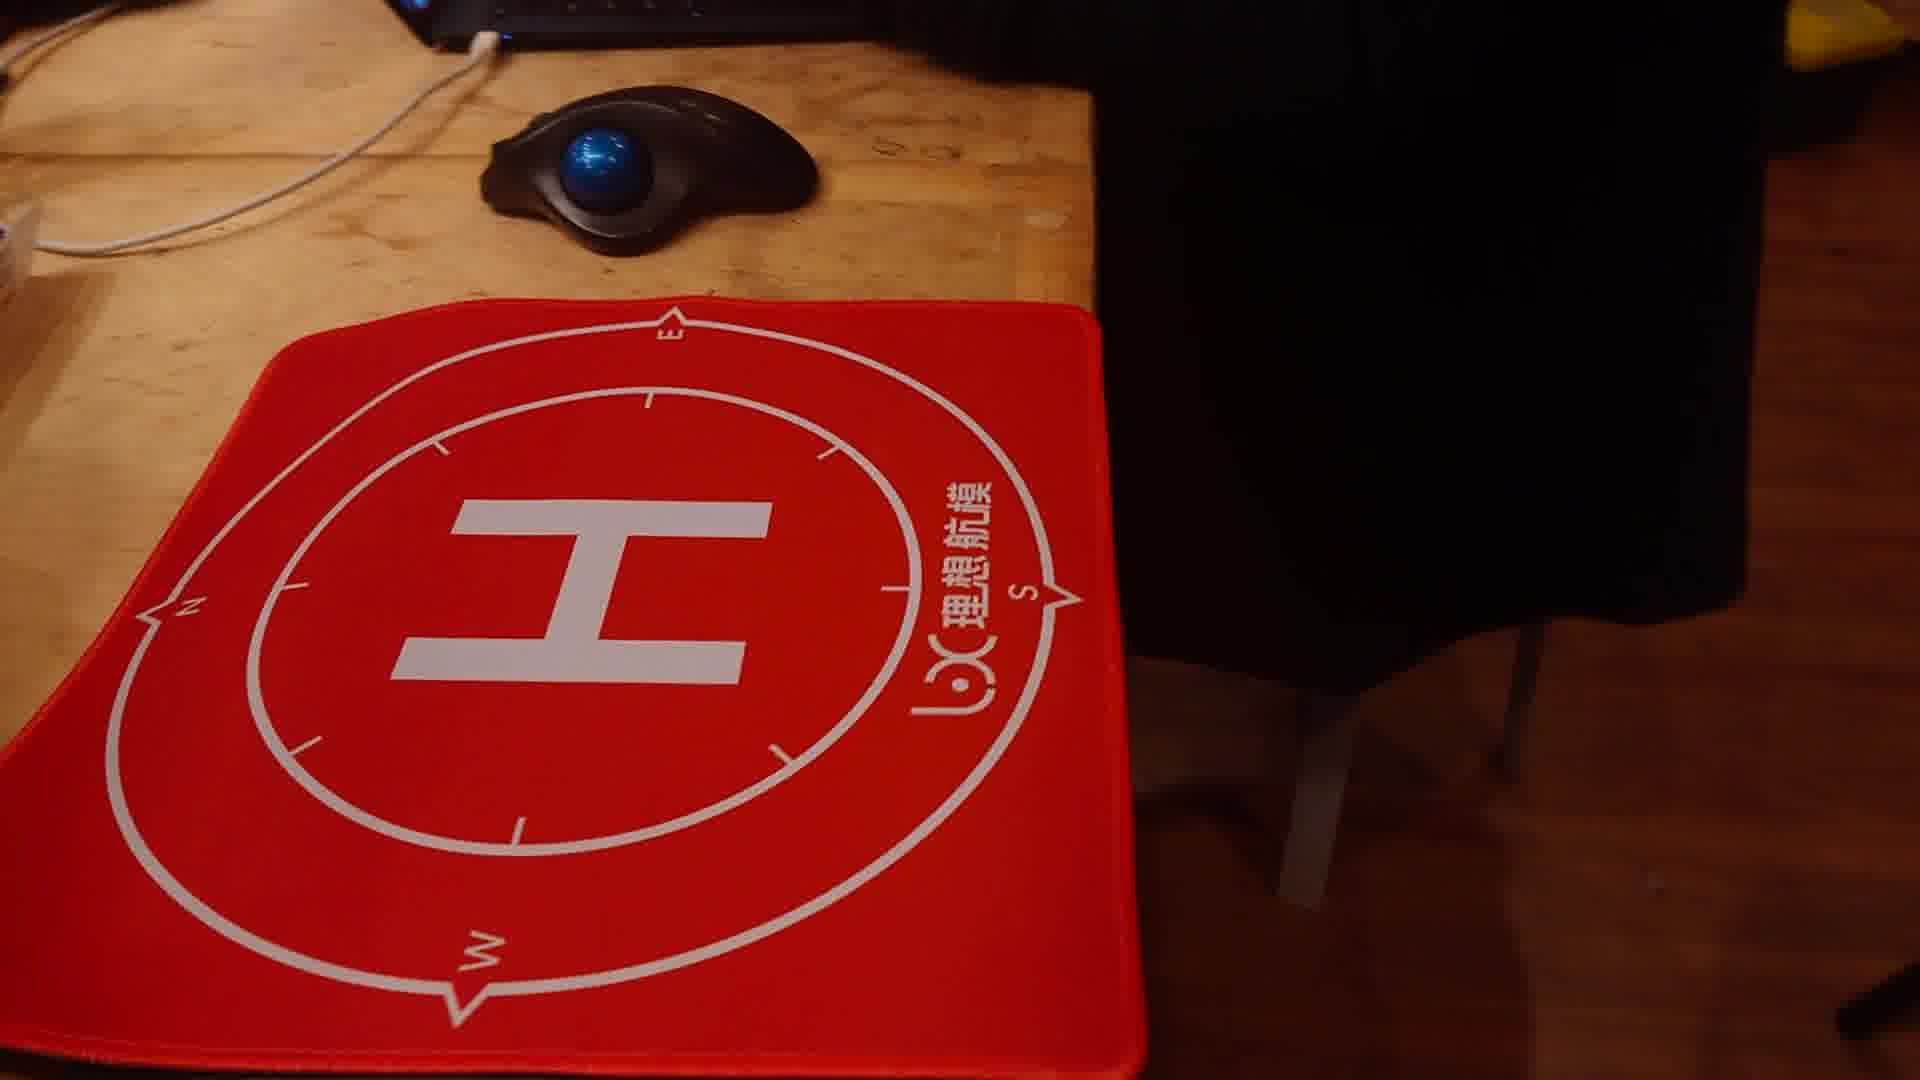H: (388, 498, 771, 688)
